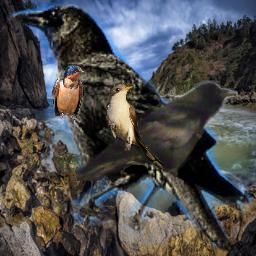Crow: (1, 1, 253, 256), (76, 80, 238, 181)
Cuckoo: (105, 83, 166, 171)
Swallow: (52, 65, 86, 123)
